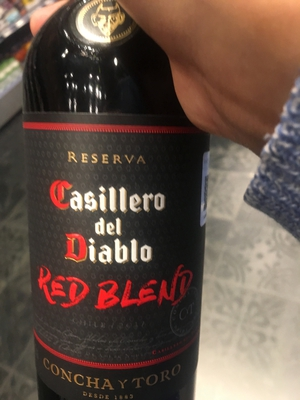casillero del diablo red blend: (21, 7, 209, 400)
